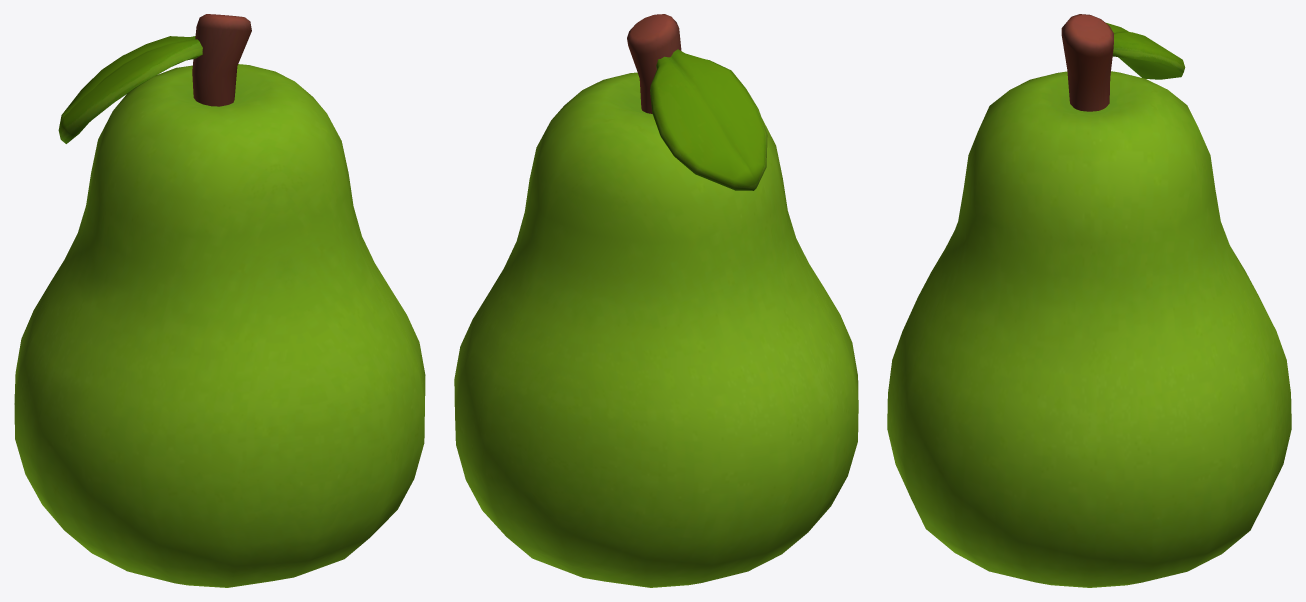
The model's file is 0-pear_green.fbx.
The picture shows the model from 3 angles, left to right: view 1: azimuth 30°, elevation 25°; view 2: azimuth 150°, elevation 25°; view 3: azimuth 270°, elevation 25°; orthographic projection.
Visible parts, largest first — view 1: 0-pear_green; view 2: 0-pear_green; view 3: 0-pear_green.
Part boxes in pixels (x1,y1,x2,y2): 0-pear_green: [14, 14, 425, 587]; 0-pear_green: [454, 14, 858, 587]; 0-pear_green: [887, 14, 1291, 587].
Bounding box in the file's own units: 66.77 × 96.61 × 65.66.
